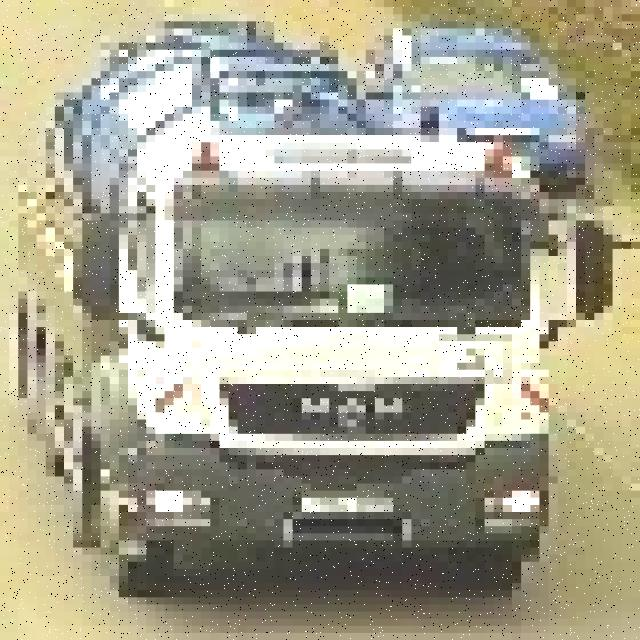truck: (0, 7, 603, 590)
